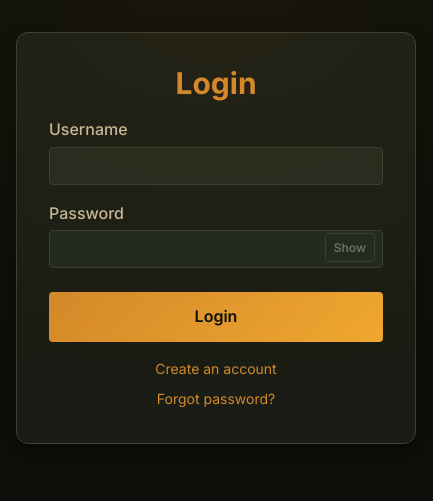
Test: LoginForm › shows error when fields are empty on submit
Click the button "Login".
click(216, 317)  # box x1=49 y1=292 x2=383 y2=342
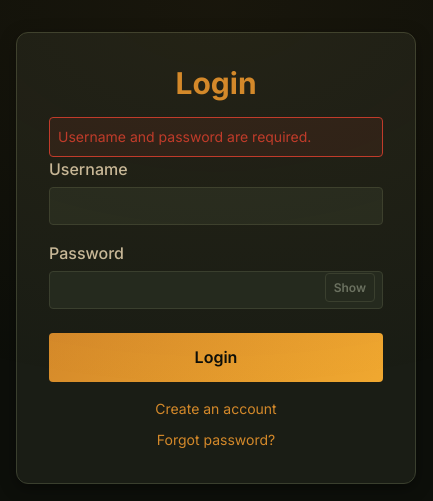
Result: the message reads "Username and password are required." at x1=58 y1=128 x2=311 y2=145
